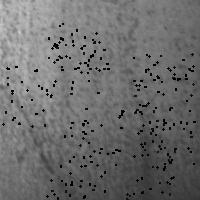pitted_surface: (8, 13, 195, 197), (133, 53, 192, 111), (64, 108, 122, 165), (46, 37, 103, 95), (119, 145, 174, 200), (134, 77, 186, 134), (137, 119, 193, 168), (0, 66, 46, 125), (56, 23, 107, 72), (46, 164, 104, 200)
